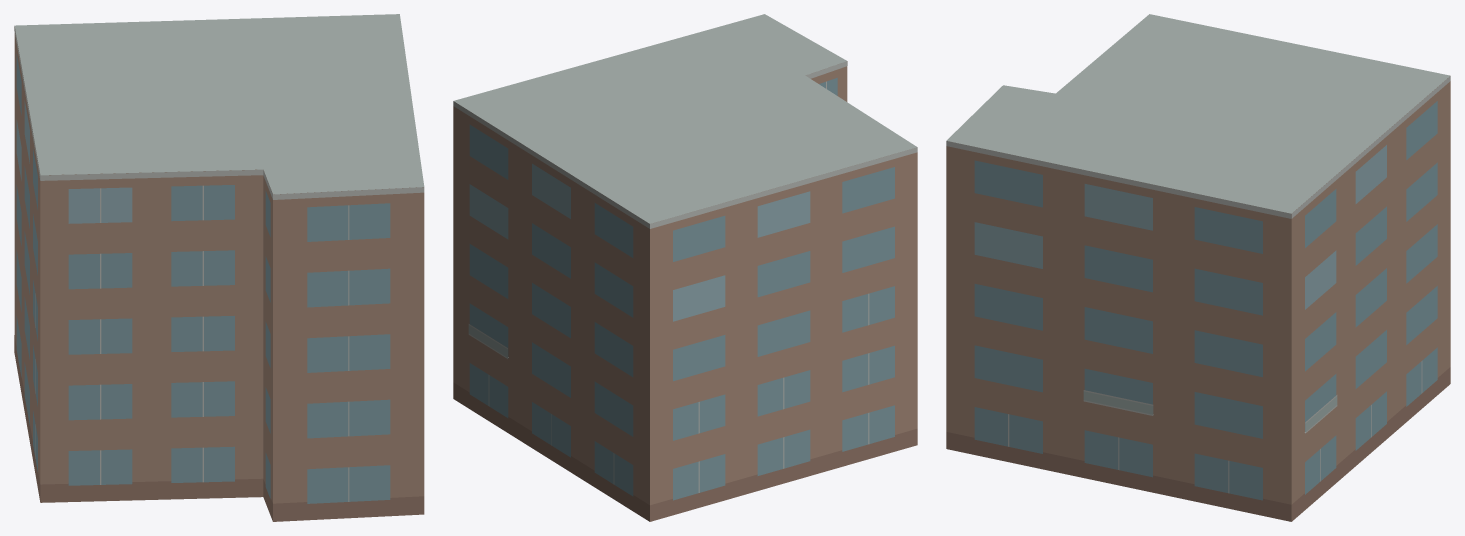
The model's file is survey-upis-32484226.glb.
3 views of the same model, side by side, from view 1: azimuth 30°, elevation 25°; view 2: azimuth 150°, elevation 25°; view 3: azimuth 270°, elevation 25° (orthographic). The views are drawn at different scales.
Visible parts, largest first — view 1: survey-upis-32484226.tmp; view 2: survey-upis-32484226.tmp; view 3: survey-upis-32484226.tmp.
Part boxes in pixels (x1=…): survey-upis-32484226.tmp: x1=14, y1=14, x2=424, y2=521; survey-upis-32484226.tmp: x1=453, y1=14, x2=917, y2=521; survey-upis-32484226.tmp: x1=946, y1=14, x2=1450, y2=521.
Bounding box in the file's own units: 19.88 × 14.3 × 21.22.
